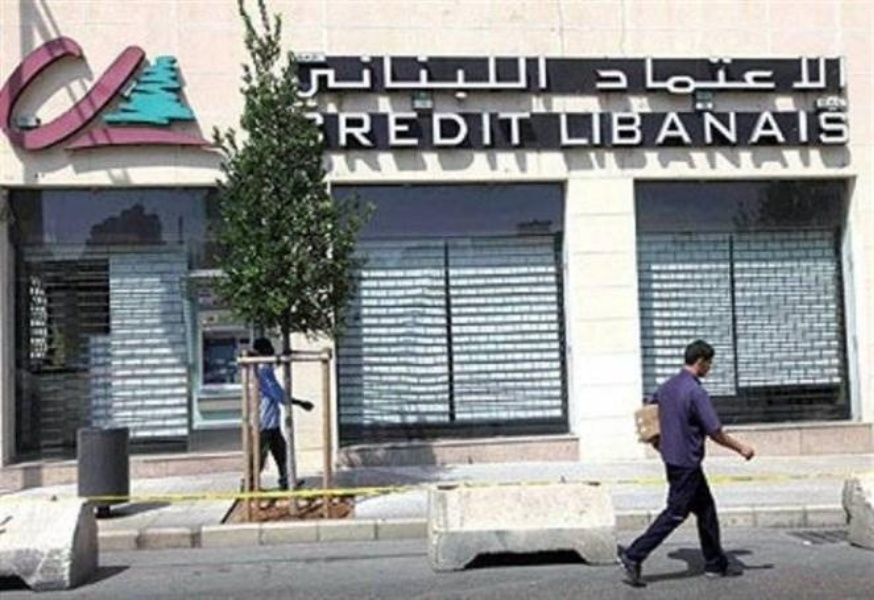text: (305, 51, 320, 109), (321, 51, 336, 109), (337, 51, 352, 109), (353, 51, 368, 109), (369, 51, 384, 109), (385, 51, 400, 109), (401, 51, 416, 109), (417, 51, 432, 109), (433, 51, 448, 109), (449, 51, 464, 109), (465, 51, 480, 109), (481, 51, 496, 109), (497, 51, 512, 109), (513, 51, 528, 109), (529, 51, 544, 109), (292, 51, 304, 109), (833, 107, 849, 150), (561, 107, 576, 150), (577, 107, 592, 150), (593, 107, 608, 150), (609, 107, 624, 150), (625, 107, 640, 150), (641, 107, 656, 150), (657, 107, 672, 150), (673, 107, 688, 150), (689, 107, 704, 150), (705, 107, 720, 150), (721, 107, 736, 150), (737, 107, 752, 150), (753, 107, 768, 150), (769, 107, 784, 150), (785, 107, 800, 150), (801, 107, 816, 150), (817, 107, 832, 150), (337, 109, 352, 150), (353, 109, 368, 150), (369, 109, 384, 150), (385, 109, 400, 150), (401, 109, 416, 150), (417, 109, 432, 150), (433, 109, 448, 150), (449, 109, 464, 150), (465, 109, 480, 150), (481, 109, 496, 150), (497, 109, 512, 150), (513, 109, 528, 150), (833, 56, 849, 94), (609, 56, 624, 94), (625, 56, 640, 94), (641, 56, 656, 94), (657, 56, 672, 94), (673, 56, 688, 94), (689, 56, 704, 94), (705, 56, 720, 94), (721, 56, 736, 94), (737, 56, 752, 94), (753, 56, 768, 94), (769, 56, 784, 94), (785, 56, 800, 94), (801, 56, 816, 94), (817, 56, 832, 94), (594, 56, 608, 94), (545, 51, 553, 109), (529, 109, 534, 150), (559, 107, 560, 150)
